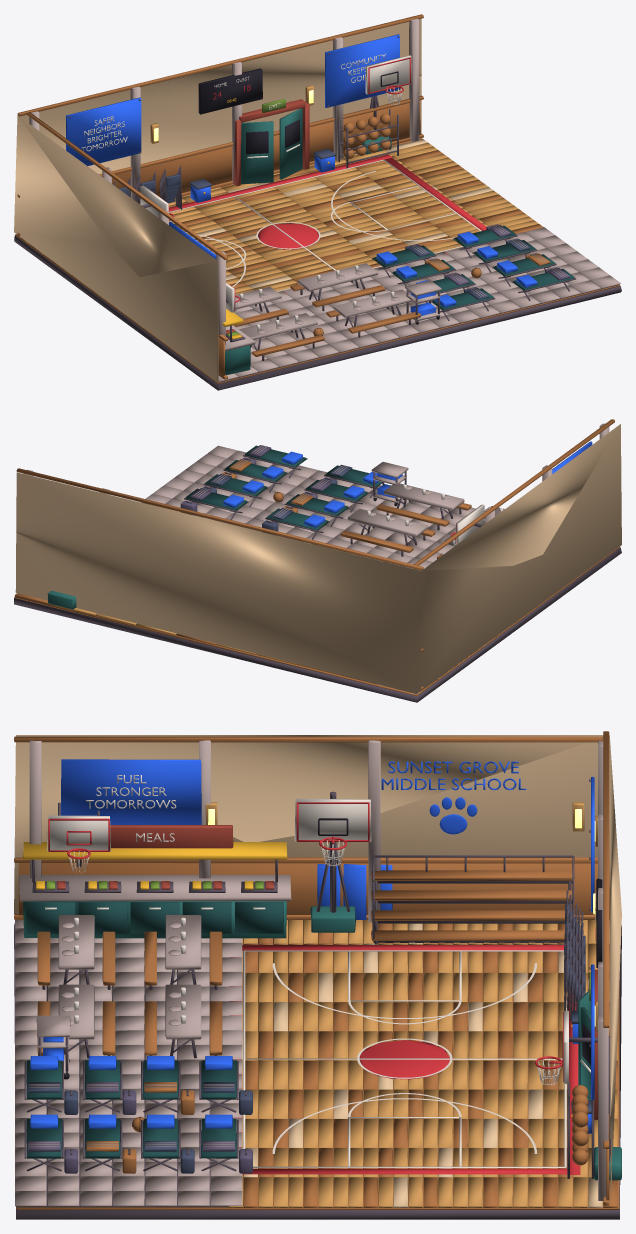
3 renders of one model, top to bottom at view 1: azimuth 30°, elevation 25°; view 2: azimuth 150°, elevation 25°; view 3: azimuth 270°, elevation 25°, orthographic. The views are drawn at different scales.
Visible parts, largest first — view 1: emitter:interior:26, door_entry_0_mesh, door_entry_1_mesh; view 2: emitter:interior:26; view 3: emitter:interior:26, door_entry_1_mesh.
Boxes of the visible parts, left/top/right/bottom form: emitter:interior:26: left=14, top=14, right=621, bottom=390; door_entry_0_mesh: left=241, top=121, right=273, bottom=184; door_entry_1_mesh: left=279, top=108, right=302, bottom=179; emitter:interior:26: left=14, top=419, right=621, bottom=702; emitter:interior:26: left=14, top=731, right=621, bottom=1219; door_entry_1_mesh: left=580, top=1007, right=591, bottom=1100.
Bounding box in the file's own units: 16 × 4.98 × 14.
